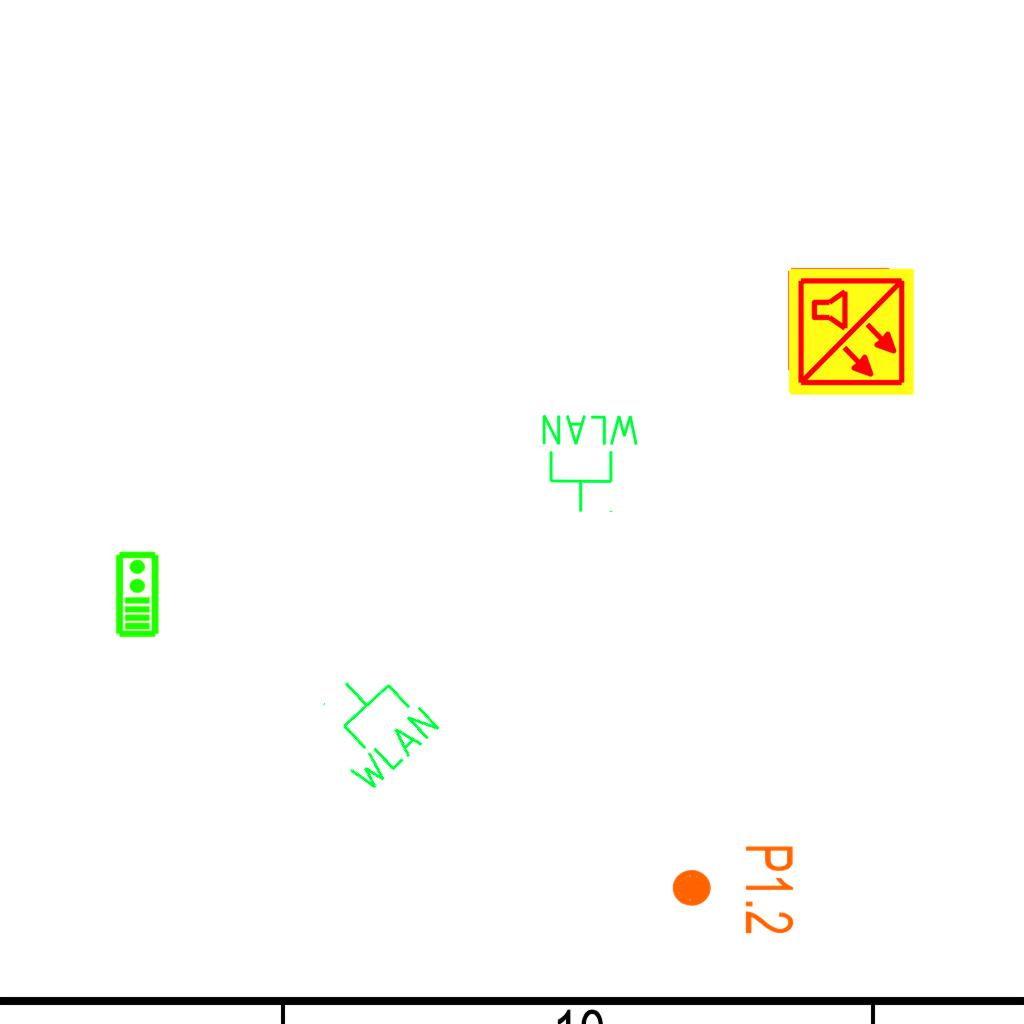Downlight_LED_Einbauleuchten_Flur: (669, 843, 797, 936)
Gegensprechanlage_mit_Video: (113, 550, 160, 638)
OKW_Multisensormelder_(Kombination_optischer_Rauch-Kahlenmonoxid_Waerme-Melder): (785, 266, 917, 398)
WLAN: (298, 651, 446, 800), (538, 411, 643, 515)
